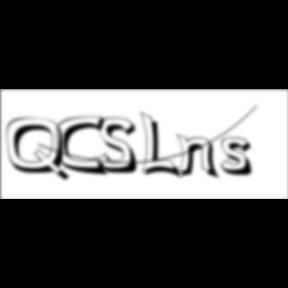C: (57, 115, 112, 178)
L: (140, 110, 184, 182)
Q: (7, 117, 73, 184)
S: (98, 117, 144, 176)
n: (176, 132, 224, 181)
s: (220, 137, 260, 179)
